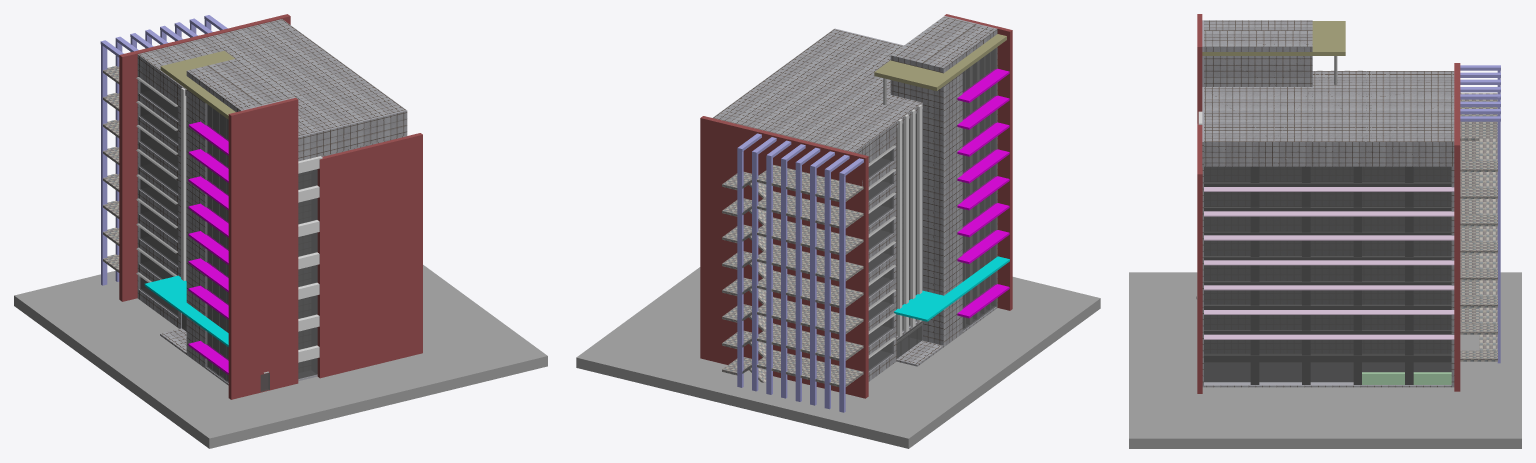
The model's file is building6_mid.fbx.
The picture shows the model from 3 angles, left to right: view 1: azimuth 30°, elevation 25°; view 2: azimuth 150°, elevation 25°; view 3: azimuth 270°, elevation 25°; orthographic projection. The views are drawn at different scales.
Parts seen in each view (by area): view 1: polySurface1316; view 2: polySurface1316; view 3: polySurface1316.
Boxes of the visible parts, x1,y1,x2,y2 form: polySurface1316: (14, 14, 547, 448); polySurface1316: (576, 14, 1100, 448); polySurface1316: (1129, 14, 1521, 448).
Size of the model in its own units: 22.64 by 18.91 by 22.64.
